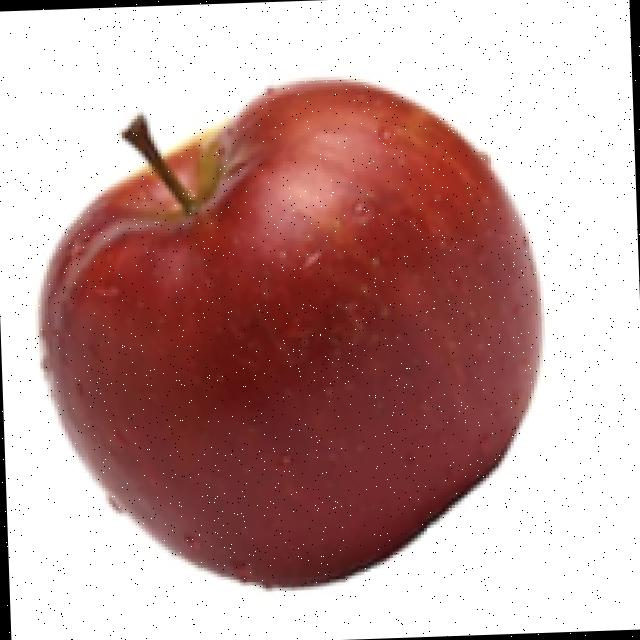apple: (31, 72, 545, 593)
